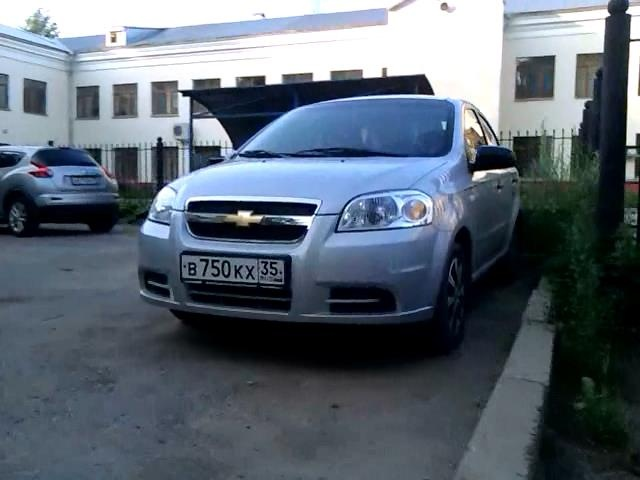car license plate: (180, 251, 290, 289), (71, 174, 101, 187)
